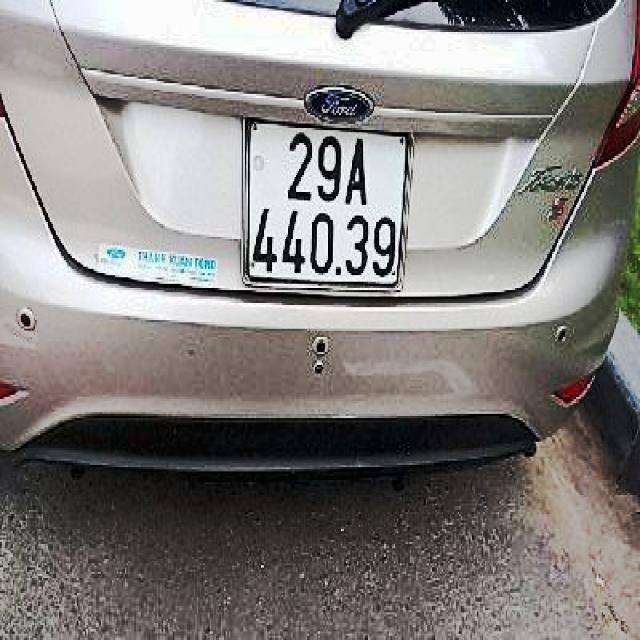license_plate: (249, 119, 407, 288)
